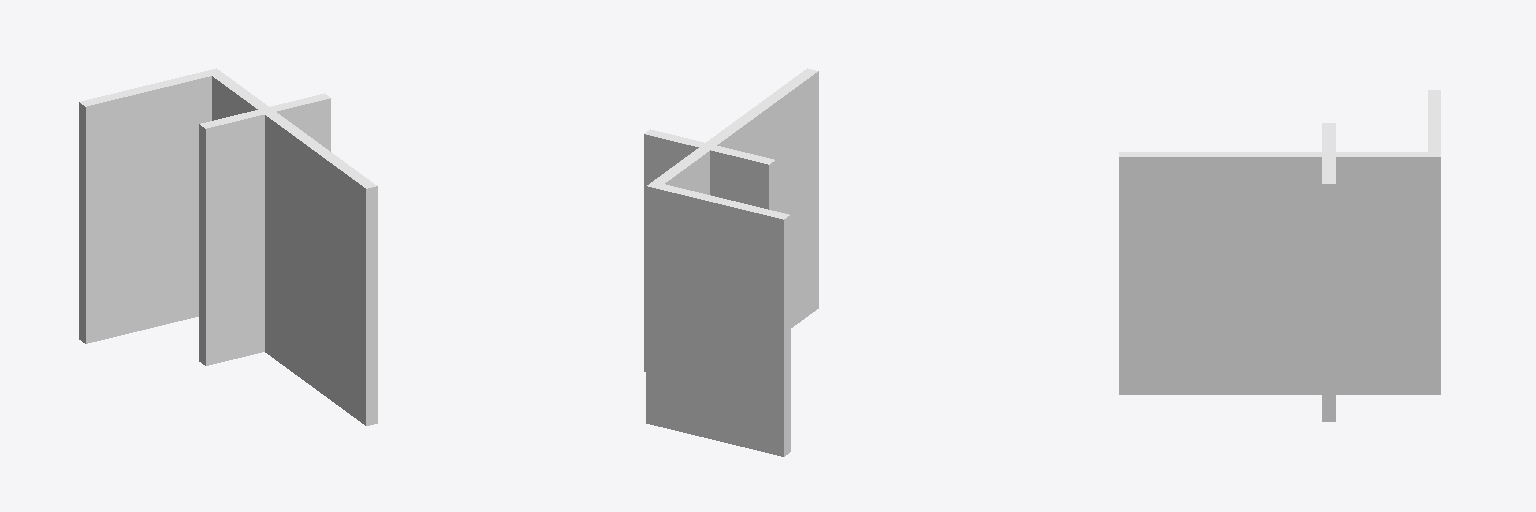
3 views of the same model, side by side, from view 1: azimuth 30°, elevation 25°; view 2: azimuth 150°, elevation 25°; view 3: azimuth 270°, elevation 25° (orthographic).
Parts seen in each view (by area): view 1: wall_1_4, wall_2_10, wall_3_16, wall_2_9, wall_2_11, wall_2_12, wall_1_3, wall_3_15; view 2: wall_1_3, wall_2_10, wall_3_15, wall_1_4, wall_2_11, wall_2_12; view 3: wall_2_9, wall_3_15, wall_3_16, wall_2_12, wall_2_11.
Boxes of the visible parts, x1,y1,x2,y2 form: wall_1_4: [82, 76, 211, 343]; wall_2_10: [212, 76, 371, 425]; wall_3_16: [202, 98, 330, 365]; wall_2_9: [372, 186, 377, 424]; wall_2_11: [215, 69, 376, 186]; wall_2_12: [212, 72, 371, 188]; wall_1_3: [79, 102, 81, 340]; wall_3_15: [199, 124, 201, 362]; wall_1_3: [646, 186, 786, 456]; wall_2_10: [665, 71, 818, 327]; wall_3_15: [644, 134, 772, 371]; wall_1_4: [787, 215, 790, 454]; wall_2_11: [647, 68, 811, 185]; wall_2_12: [656, 70, 817, 184]; wall_2_9: [1119, 157, 1440, 394]; wall_3_15: [1329, 184, 1335, 421]; wall_3_16: [1322, 184, 1328, 421]; wall_2_12: [1119, 152, 1433, 154]; wall_2_11: [1119, 155, 1438, 156].
Bounding box in the file's own units: 130 × 152 × 187.